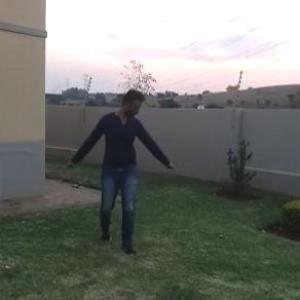land: (57, 85, 189, 263)
